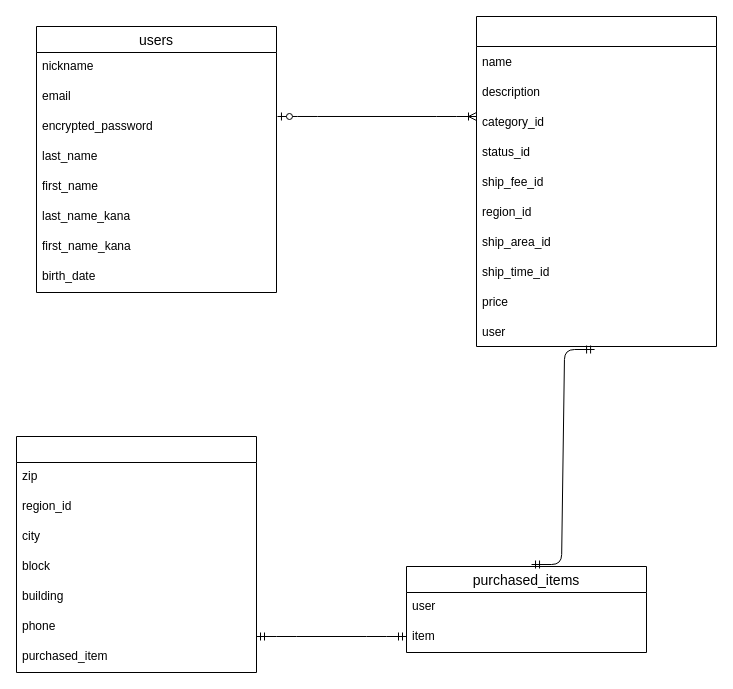
The diagram is 733 pixels wide and 689 high, and some of its shapes have lost their labels. Here are the shapes that lost their labels. From the top down, the box of each, then its label:
(476, 16, 716, 346): items
(16, 436, 256, 672): addresses
